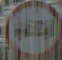Heavy Vehicles: (9, 8, 57, 48)
